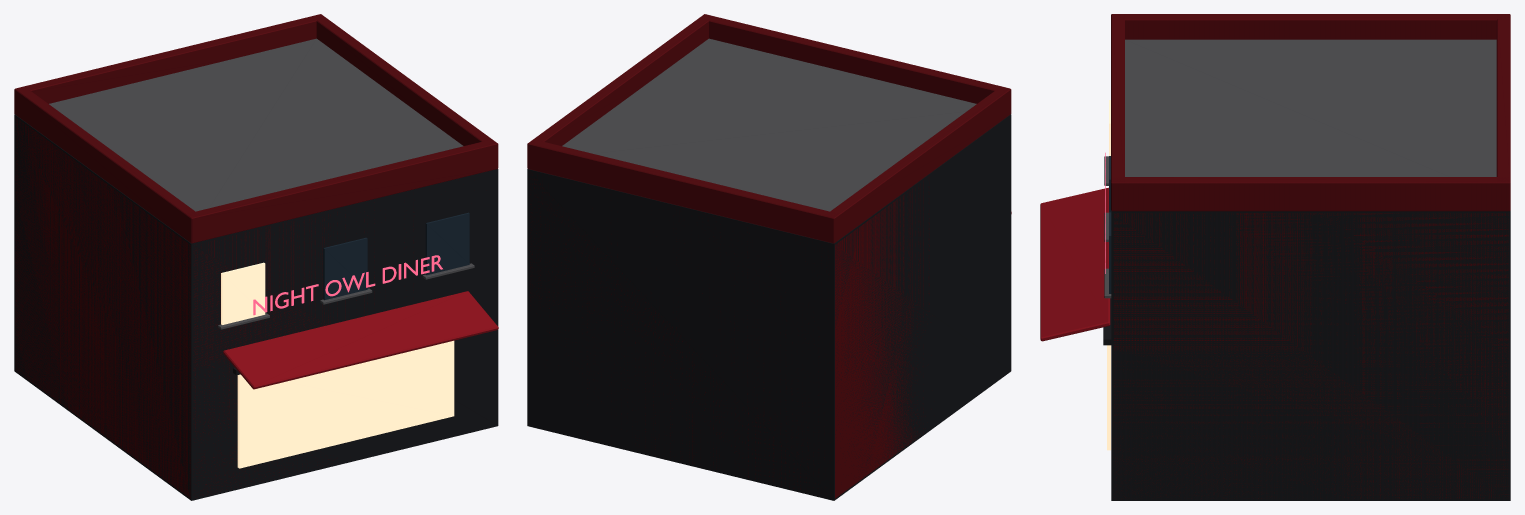
File: kit_shopfront.glb
3 views of the same model, side by side, from view 1: azimuth 30°, elevation 25°; view 2: azimuth 150°, elevation 25°; view 3: azimuth 270°, elevation 25° (orthographic). The views are drawn at different scales.
Parts seen in each view (by area): view 1: sh_COL, sh_shell, sh_roof, sh_window, sh_awning, sh_parapet1, sh_parapet0, sh_parapet3, sh_parapet2, sh_up_win0_0, sh_up_win0_2, sh_up_win0_1 (+1 smaller); view 2: sh_COL, sh_roof, sh_shell, sh_parapet0, sh_parapet1, sh_parapet3, sh_parapet2; view 3: sh_COL, sh_roof, sh_shell, sh_parapet2, sh_parapet3, sh_awning, sh_parapet0, sh_parapet1.
Part boxes in pixels (x1,y1,x2,y2): sh_COL: [14, 114, 498, 500]; sh_shell: [15, 117, 413, 498]; sh_roof: [49, 38, 463, 211]; sh_window: [237, 340, 454, 468]; sh_awning: [223, 291, 498, 389]; sh_parapet1: [187, 139, 497, 243]; sh_parapet0: [15, 14, 325, 103]; sh_parapet3: [14, 88, 196, 243]; sh_parapet2: [313, 14, 498, 167]; sh_up_win0_0: [221, 262, 265, 324]; sh_up_win0_2: [425, 212, 469, 274]; sh_up_win0_1: [323, 237, 367, 300]; sh_COL: [527, 114, 1011, 500]; sh_roof: [562, 38, 976, 211]; sh_shell: [528, 171, 931, 498]; sh_parapet0: [527, 139, 838, 243]; sh_parapet1: [700, 14, 1009, 103]; sh_parapet3: [825, 89, 1011, 243]; sh_parapet2: [527, 14, 713, 160]; sh_COL: [1111, 211, 1510, 500]; sh_roof: [1125, 39, 1496, 176]; sh_shell: [1113, 213, 1508, 498]; sh_parapet2: [1111, 177, 1509, 211]; sh_parapet3: [1114, 14, 1509, 39]; sh_awning: [1040, 187, 1110, 341]; sh_parapet0: [1496, 14, 1510, 210]; sh_parapet1: [1111, 14, 1124, 210].
Size of the model in its own units: 10.01 by 8.8 by 11.78.
7 materials, 7 textured.
